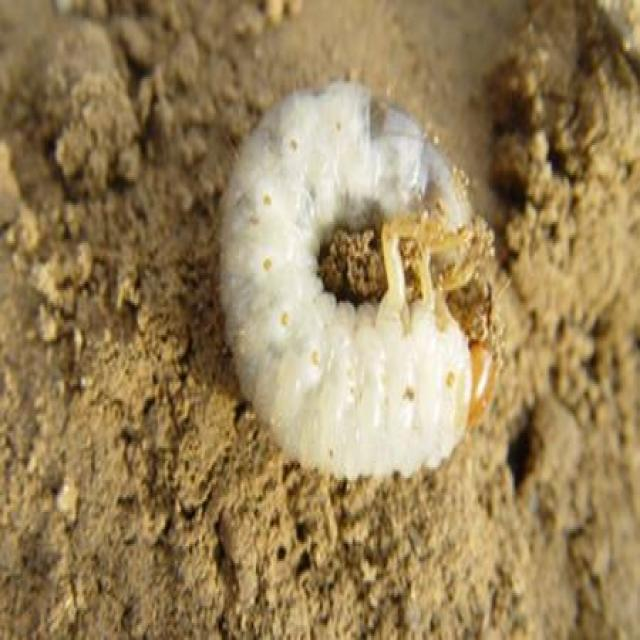Grub-Adult-: (175, 55, 507, 485)
